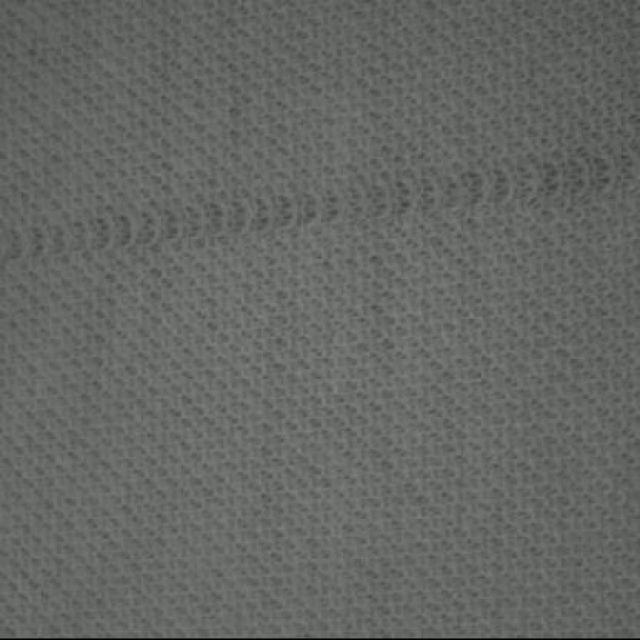Line: (0, 139, 640, 264)
